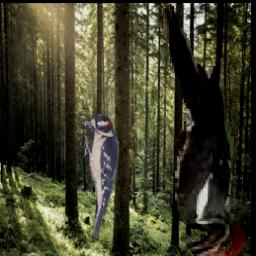Woodpecker: (164, 5, 246, 256), (80, 112, 120, 239)
